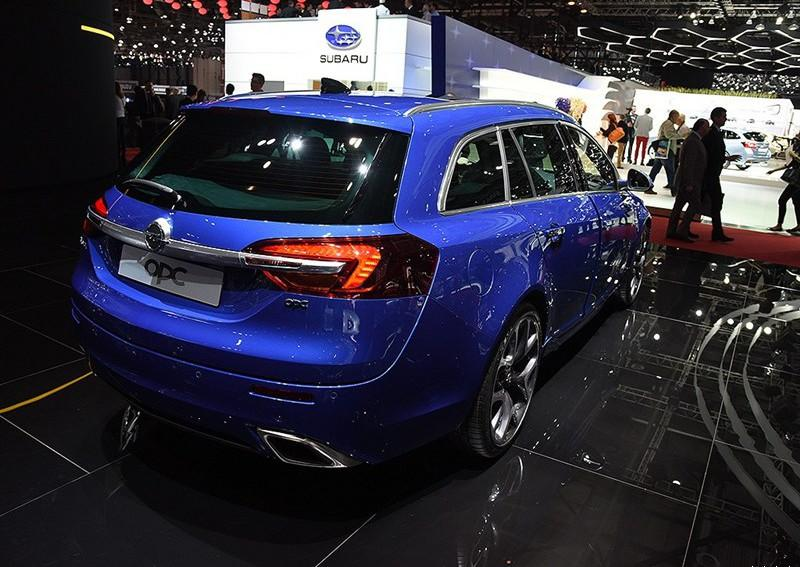Wagon: (71, 90, 654, 474)
